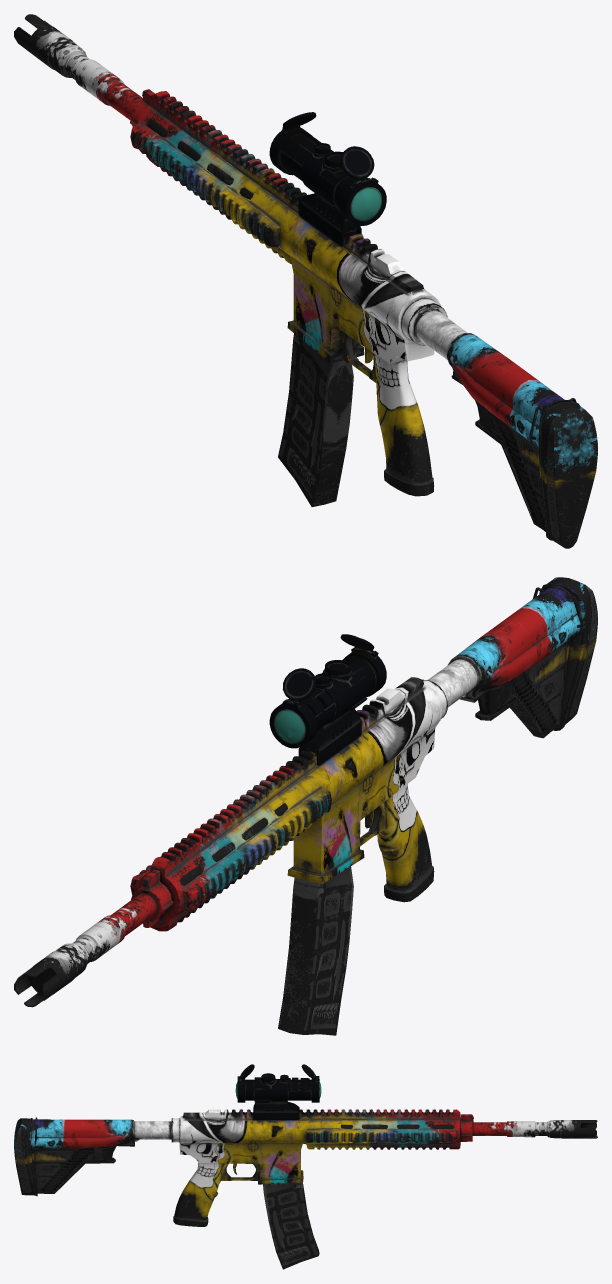
The model's file is Gun_3.fbx.
3 views of the same model, one above another, from view 1: azimuth 30°, elevation 25°; view 2: azimuth 150°, elevation 25°; view 3: azimuth 270°, elevation 25° (orthographic). The views are drawn at different scales.
Visible parts, largest first — view 1: low_low_initialShadingGroup_0; view 2: low_low_initialShadingGroup_0; view 3: low_low_initialShadingGroup_0.
Boxes of the visible parts, <box> form: low_low_initialShadingGroup_0: <box>14,14,597,548</box>; low_low_initialShadingGroup_0: <box>14,577,597,1035</box>; low_low_initialShadingGroup_0: <box>14,1064,597,1269</box>.
Size of the model in its own units: 55.76 by 301 by 791.
1 material, 1 textured.
